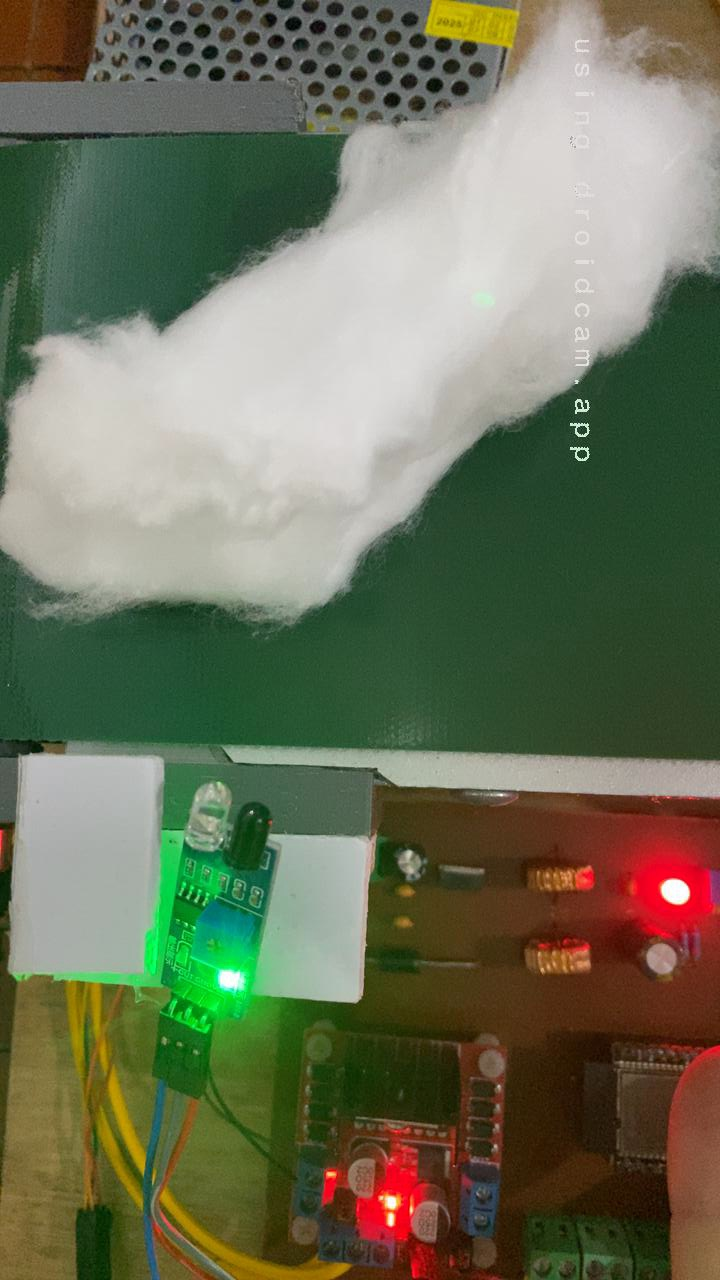cotton: (0, 134, 720, 625)
